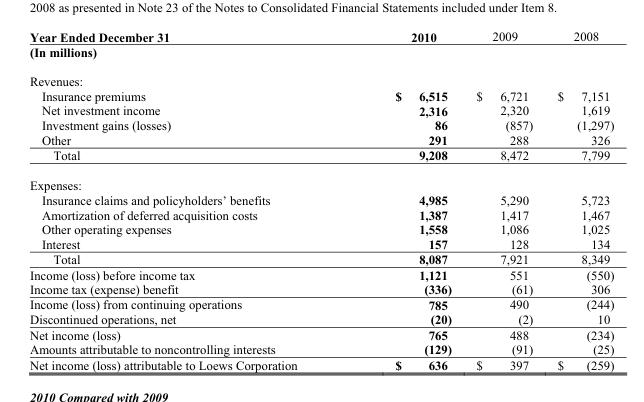table: (28, 29, 613, 371)
table column: (28, 29, 345, 371), (345, 29, 463, 371), (463, 29, 544, 371), (544, 29, 613, 371)
table column header: (28, 29, 613, 43)
table projected row header: (28, 43, 613, 66), (28, 169, 613, 192), (28, 66, 613, 88)
table row: (28, 43, 613, 66), (28, 169, 613, 192), (28, 66, 613, 88), (28, 147, 613, 169), (28, 102, 613, 117), (28, 117, 613, 132), (28, 132, 613, 147), (28, 206, 613, 221), (28, 221, 613, 236), (28, 236, 613, 251), (28, 251, 613, 266), (28, 266, 613, 281), (28, 281, 613, 296), (28, 296, 613, 311), (28, 311, 613, 326), (28, 326, 613, 341), (28, 341, 613, 356), (28, 356, 613, 371), (28, 29, 613, 43), (28, 88, 613, 102), (28, 192, 613, 206)
